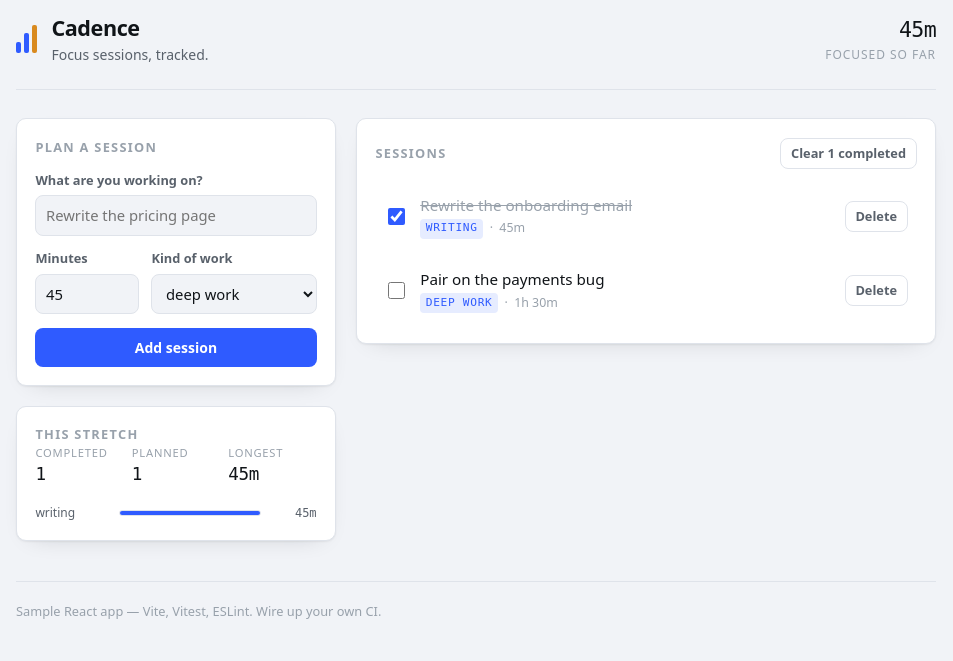
Test case: App › marks a session complete and updates the totals
Note: Scoped to the checkbox: the delete button's label mentions the name too.
Click the checkbox labelled "Pair on the payments bug deep work · 1h 30m": (397, 290) [388,282,405,299]
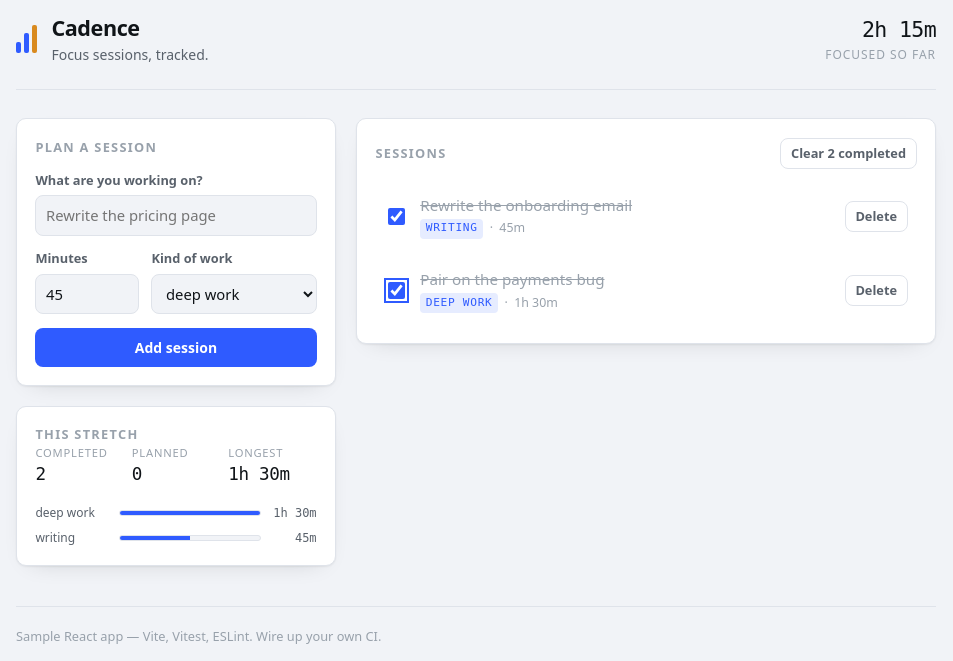
expect the text "2h 15m" is shown: met, box [862,16,936,42]
